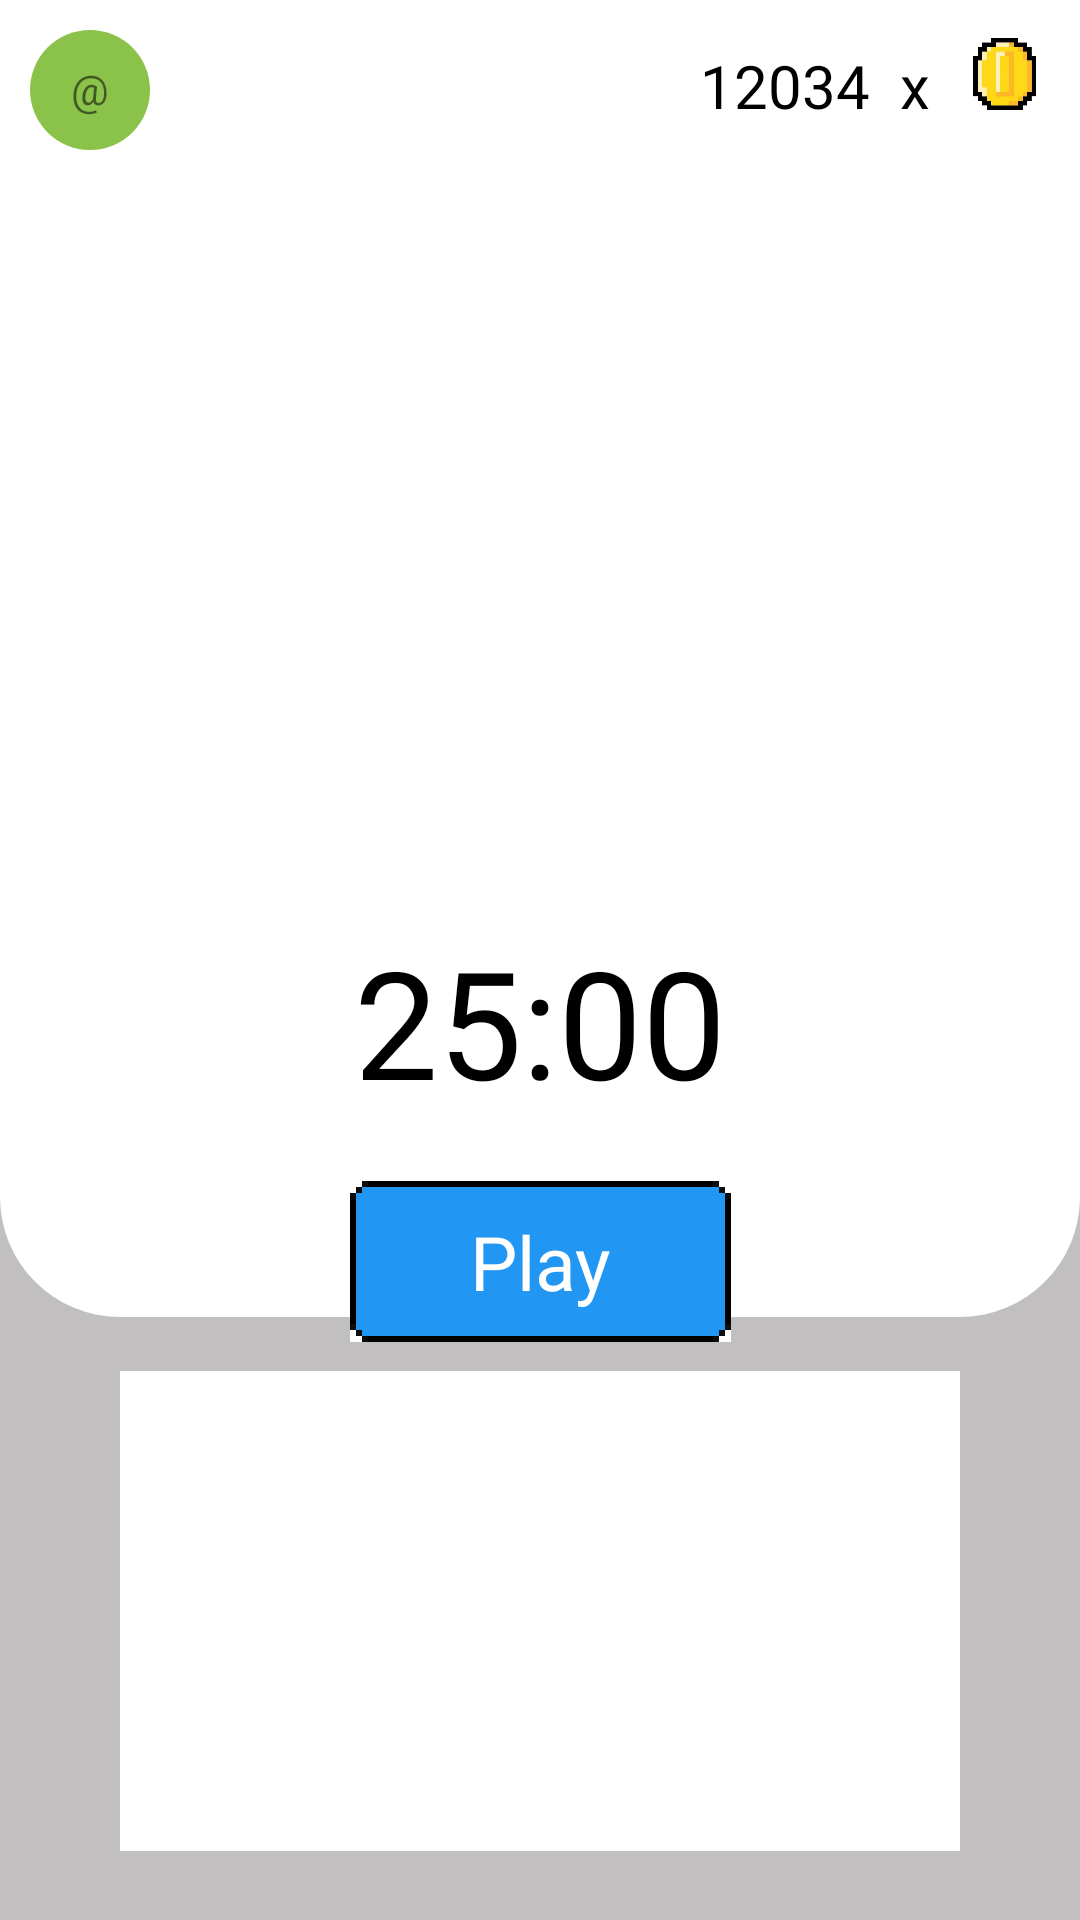

Screen size 1080px×1920px. Icon name, then its box in pixels as detection(x1, y1, x2, y2):
coin icon: detection(973, 38, 1036, 110)
